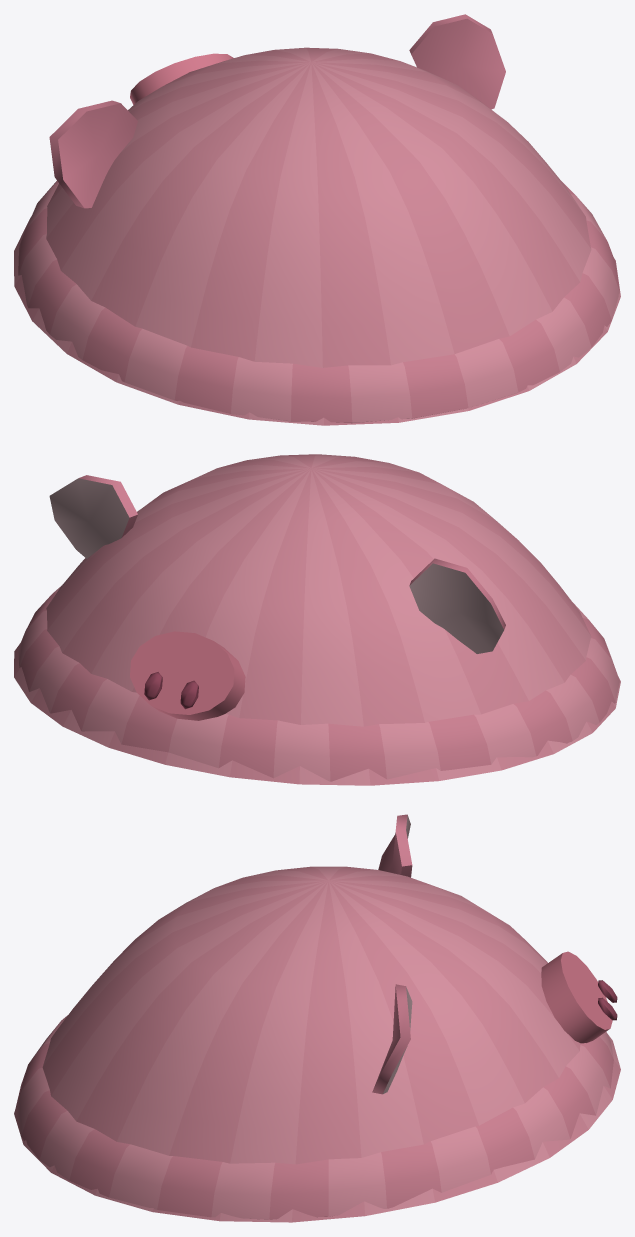
File: cos_h_pigears.glb
The picture shows the model from 3 angles, top to bottom: view 1: azimuth 30°, elevation 25°; view 2: azimuth 150°, elevation 25°; view 3: azimuth 270°, elevation 25°; orthographic projection.
Parts seen in each view (by area): view 1: h_pigears; view 2: h_pigears; view 3: h_pigears.
Boxes of the visible parts, <box> form: h_pigears: <box>14,14,620,425</box>; h_pigears: <box>14,454,620,785</box>; h_pigears: <box>14,814,620,1222</box>.
Size of the model in its own units: 0.8726 by 0.374 by 0.8731.
